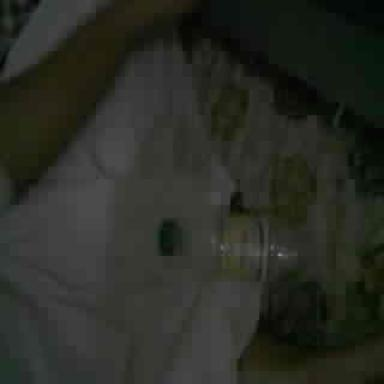bottle: (154, 215, 303, 283)
